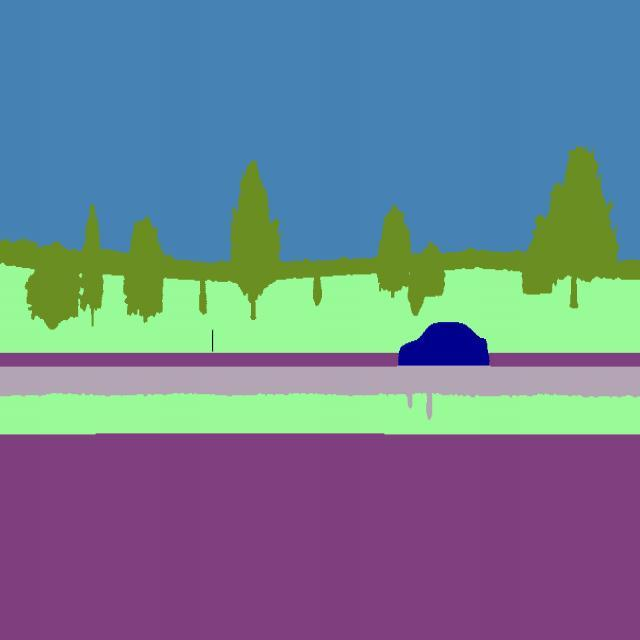safe: (395, 311, 493, 371)
